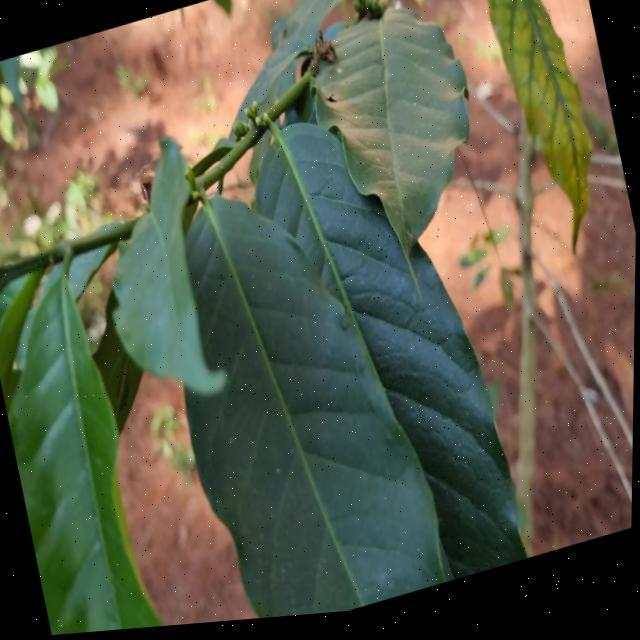leaves: (106, 163, 463, 640), (230, 95, 561, 596), (284, 0, 529, 256), (0, 258, 159, 640), (83, 137, 227, 408)
